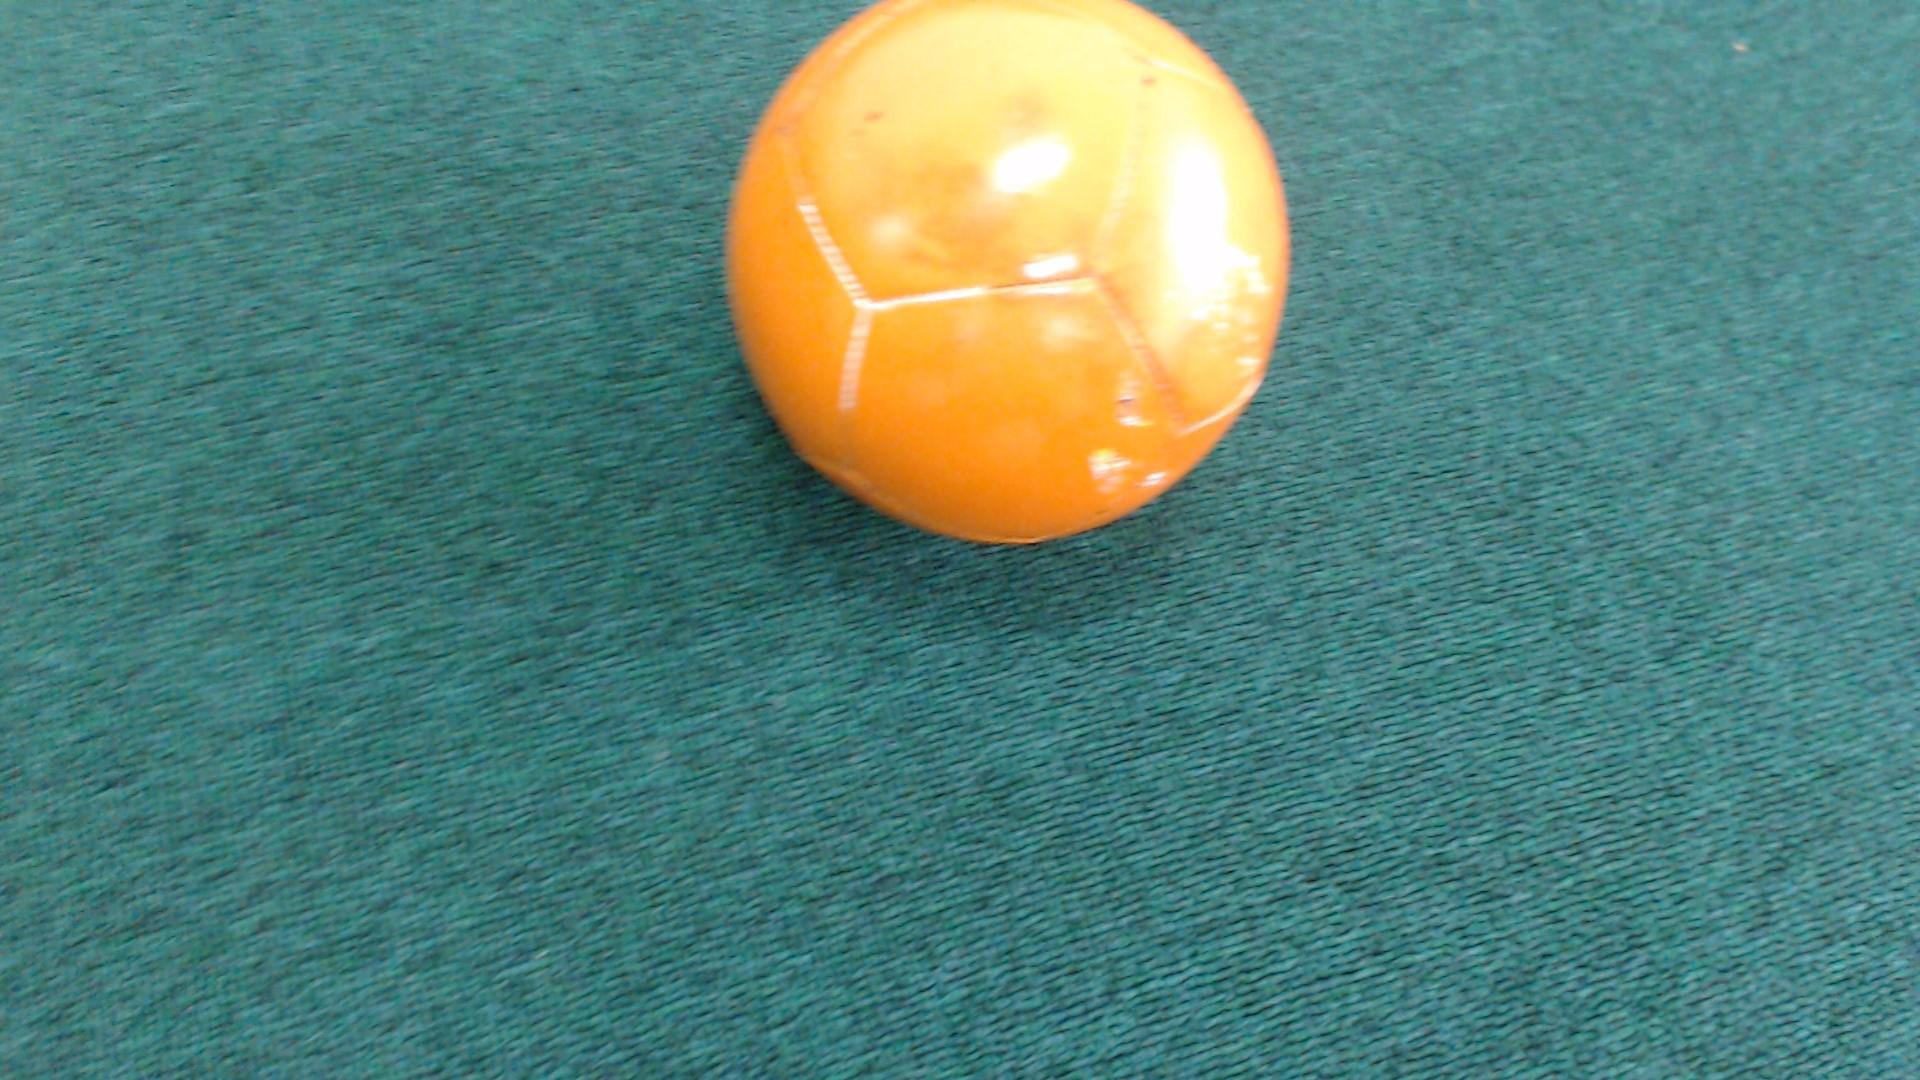bola: (687, 0, 1341, 579)
